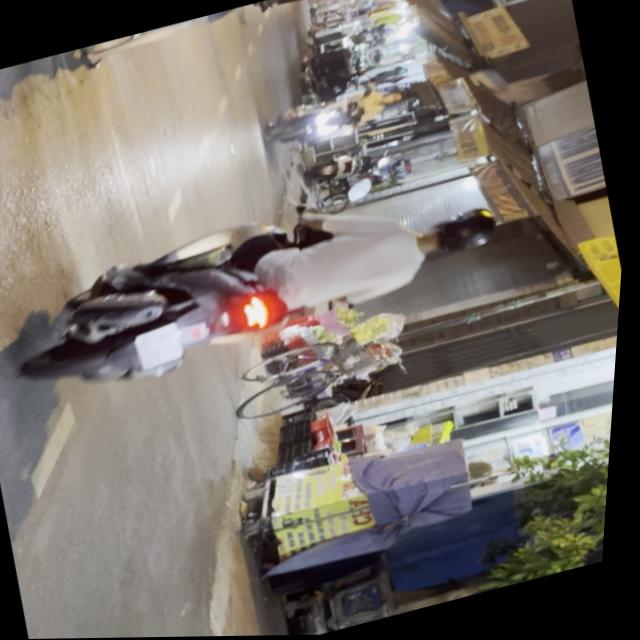helmet: (420, 208, 506, 266)
licenseplate: (0, 159, 521, 412)
nohelmet: (137, 323, 191, 372)
